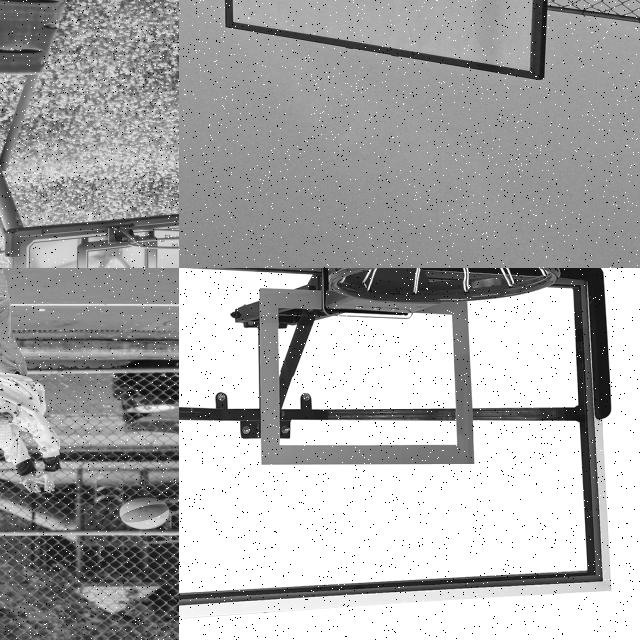backboard: (179, 268, 606, 640), (224, 0, 552, 95), (19, 205, 179, 268)
